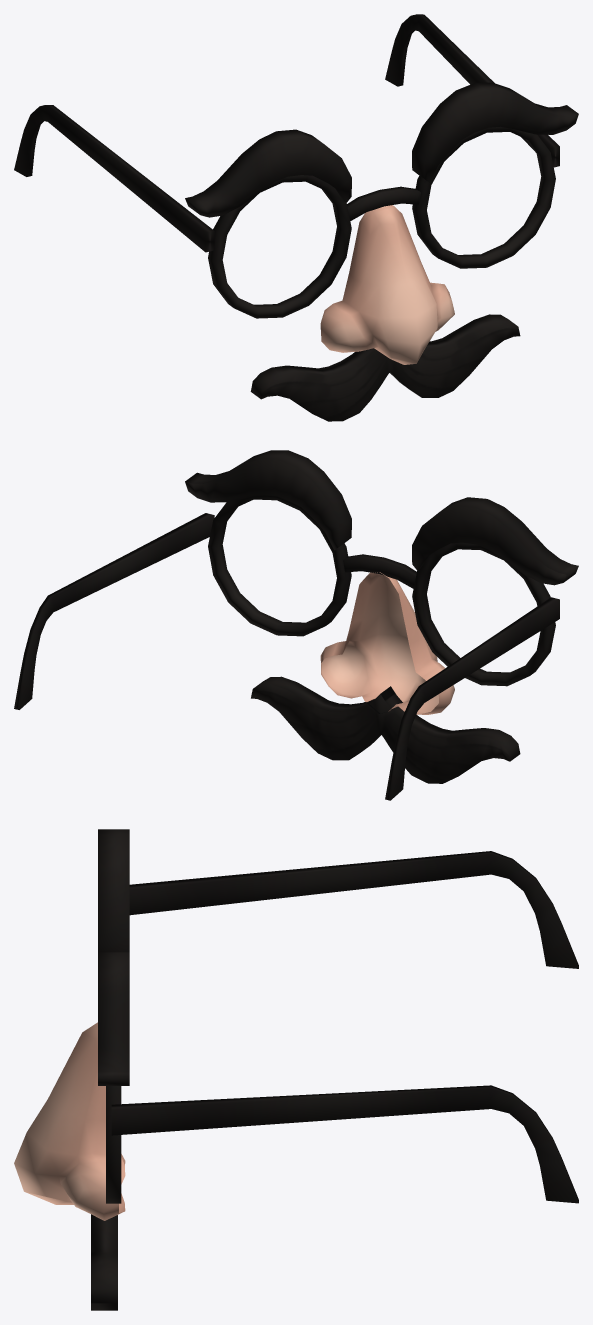
The model's file is Disguise glasses.fbx.
The picture shows the model from 3 angles, top to bottom: view 1: azimuth 30°, elevation 25°; view 2: azimuth 150°, elevation 25°; view 3: azimuth 270°, elevation 25°; orthographic projection. The views are drawn at different scales.
Parts seen in each view (by area): view 1: Disguise_glasses; view 2: Disguise_glasses; view 3: Disguise_glasses.
Boxes of the visible parts, bbox=[...] form: Disguise_glasses: bbox=[14, 14, 578, 421]; Disguise_glasses: bbox=[14, 450, 578, 800]; Disguise_glasses: bbox=[14, 829, 578, 1310].
Bounding box in the file's own units: 1.14 × 0.8321 × 1.13.
Materials: 1 (1 with a texture image).
